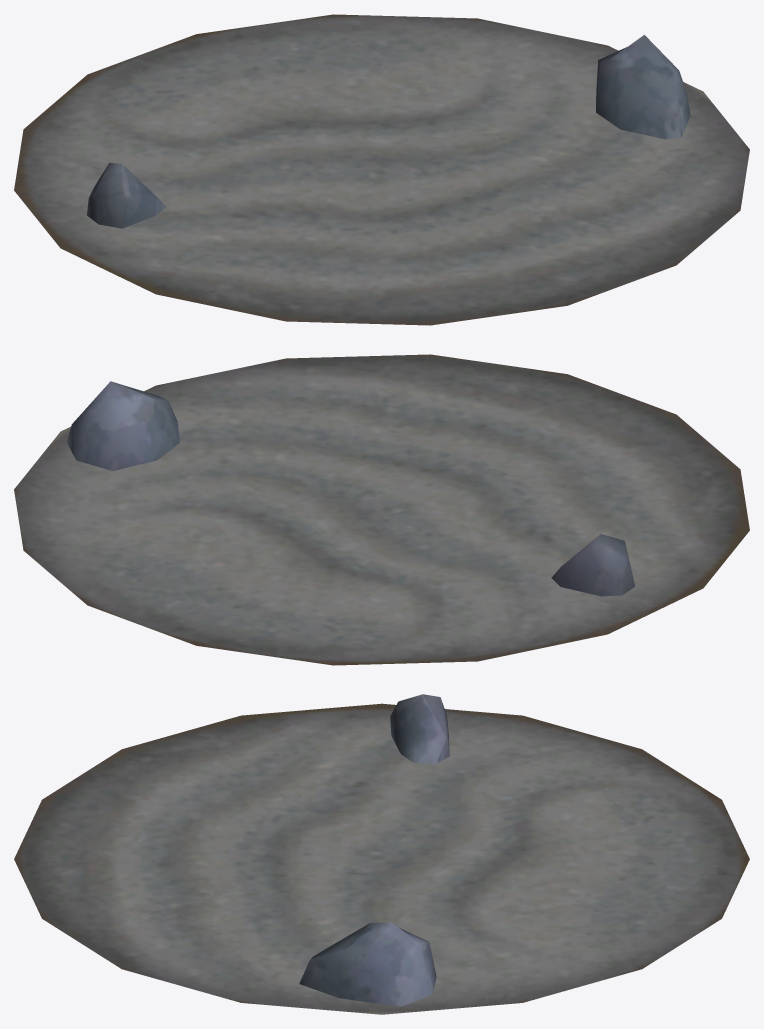
The model's file is Homeworld_General_Common_Thing_Prop_Irodori_Viewforward_01_A_Vo.fbx.
3 views of the same model, one above another, from view 1: azimuth 30°, elevation 25°; view 2: azimuth 150°, elevation 25°; view 3: azimuth 270°, elevation 25° (orthographic).
Visible parts, largest first — view 1: Homeworld_General_Common_Thing_Prop_Irodori_Viewforward_01_A; view 2: Homeworld_General_Common_Thing_Prop_Irodori_Viewforward_01_A; view 3: Homeworld_General_Common_Thing_Prop_Irodori_Viewforward_01_A.
Part boxes in pixels (x1,y1,x2,y2): Homeworld_General_Common_Thing_Prop_Irodori_Viewforward_01_A: (14,14,749,325); Homeworld_General_Common_Thing_Prop_Irodori_Viewforward_01_A: (14,354,749,665); Homeworld_General_Common_Thing_Prop_Irodori_Viewforward_01_A: (14,694,749,1014).
Size of the model in its own units: 0.7162 by 0.0737 by 0.7162.
